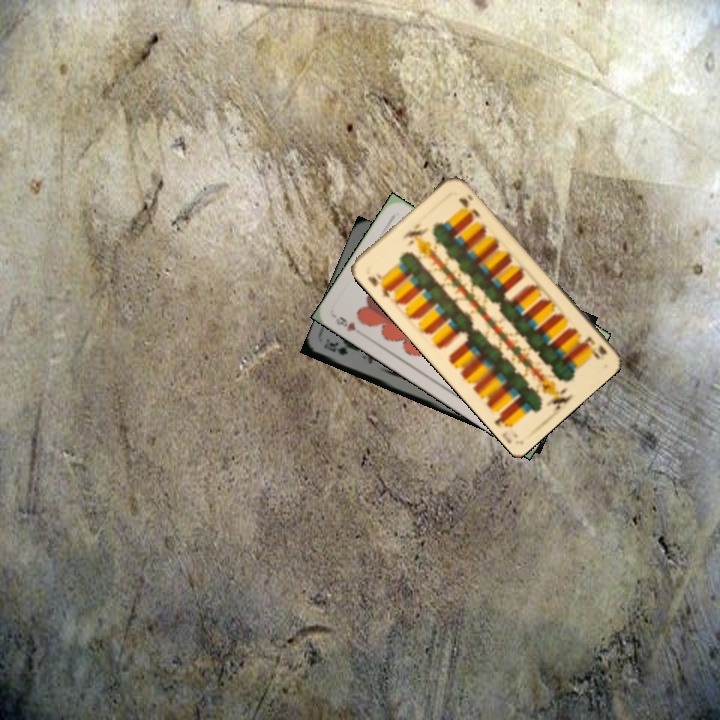E10: (363, 269, 396, 300), (579, 333, 610, 362)
GK: (320, 337, 350, 358)
H9: (331, 312, 358, 334)
